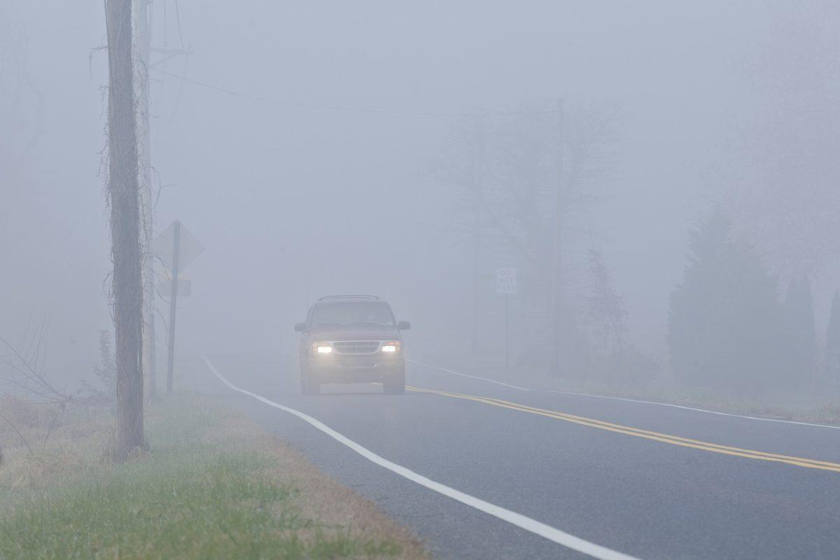car: (292, 294, 412, 397)
